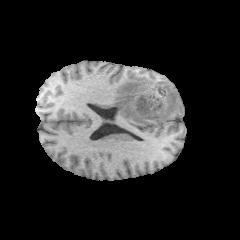glioma: (113, 78, 178, 119)
